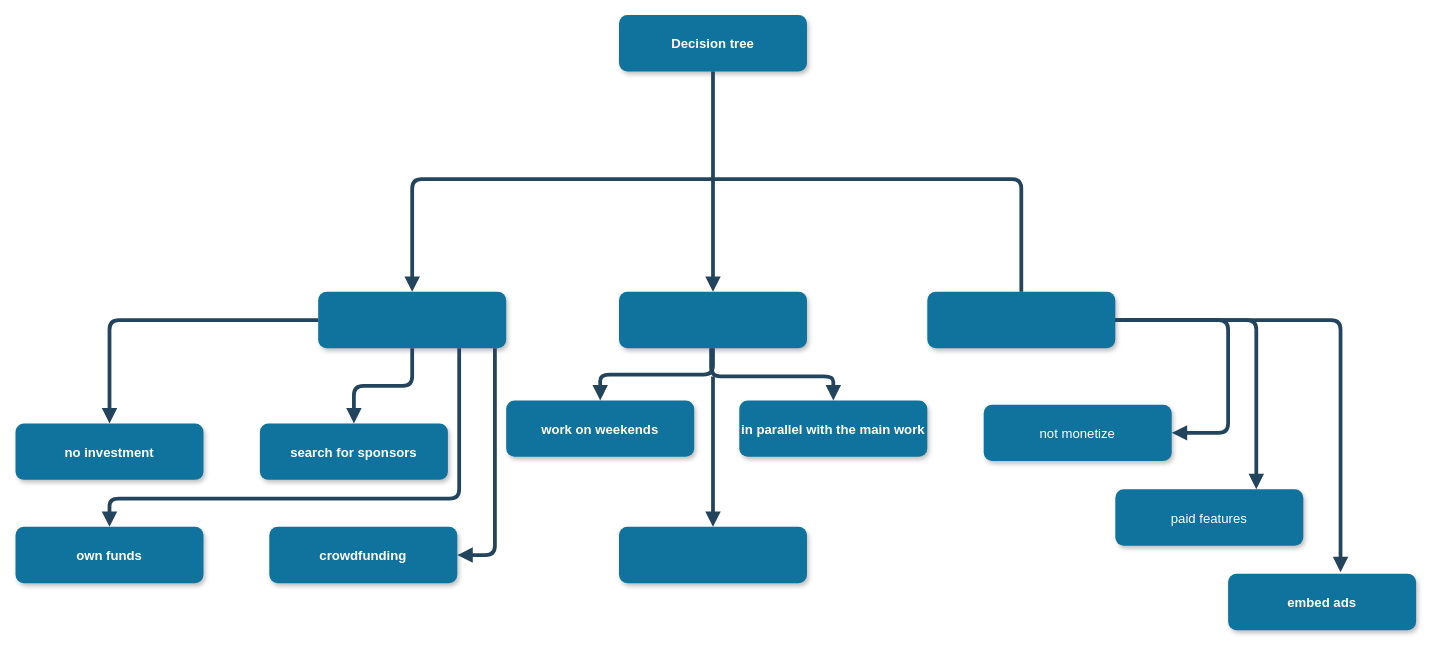
Image size: 1432x646. Some labels were removed from this diagram. The shapes that lost their labels are listed below. From the top down, each one's centre as x and y in pixels, then its label:
pixel 412 321: investment in the project
pixel 713 321: time spent on the project
pixel 1021 321: monetization
pixel 713 556: during working hours
